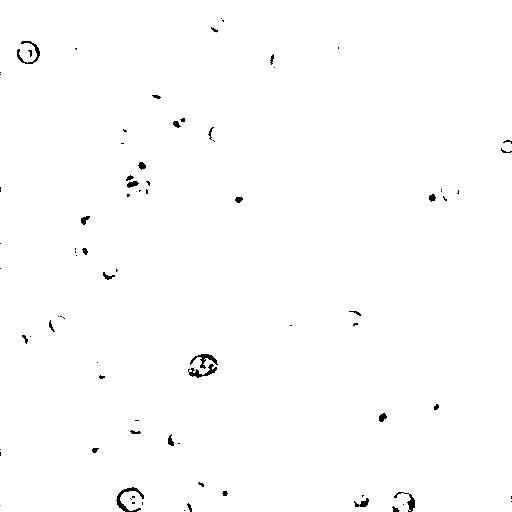micro-algae: (71, 356, 140, 420), (272, 11, 336, 78), (252, 465, 315, 511), (372, 158, 421, 206), (454, 471, 511, 512), (161, 104, 200, 144), (151, 448, 189, 484), (89, 347, 122, 385), (120, 175, 154, 208), (212, 479, 244, 512), (415, 389, 448, 420), (64, 35, 96, 66), (80, 432, 110, 465), (344, 484, 379, 512), (105, 120, 138, 149), (73, 204, 103, 235), (92, 253, 123, 283), (186, 352, 220, 379), (128, 156, 159, 183), (278, 317, 308, 344), (115, 486, 145, 512), (441, 176, 469, 202), (123, 415, 154, 438), (15, 39, 42, 65), (269, 46, 296, 72), (367, 406, 395, 430), (13, 327, 38, 353), (389, 490, 418, 512), (323, 31, 347, 57), (418, 182, 442, 208), (415, 0, 455, 15), (73, 236, 97, 261), (145, 436, 169, 460), (114, 1, 142, 21), (260, 98, 282, 122), (340, 309, 365, 329), (207, 123, 229, 145), (166, 428, 187, 451), (48, 314, 70, 335), (206, 13, 227, 34), (188, 481, 208, 501), (170, 499, 194, 512), (447, 78, 461, 94), (500, 139, 512, 155), (230, 195, 247, 206)
